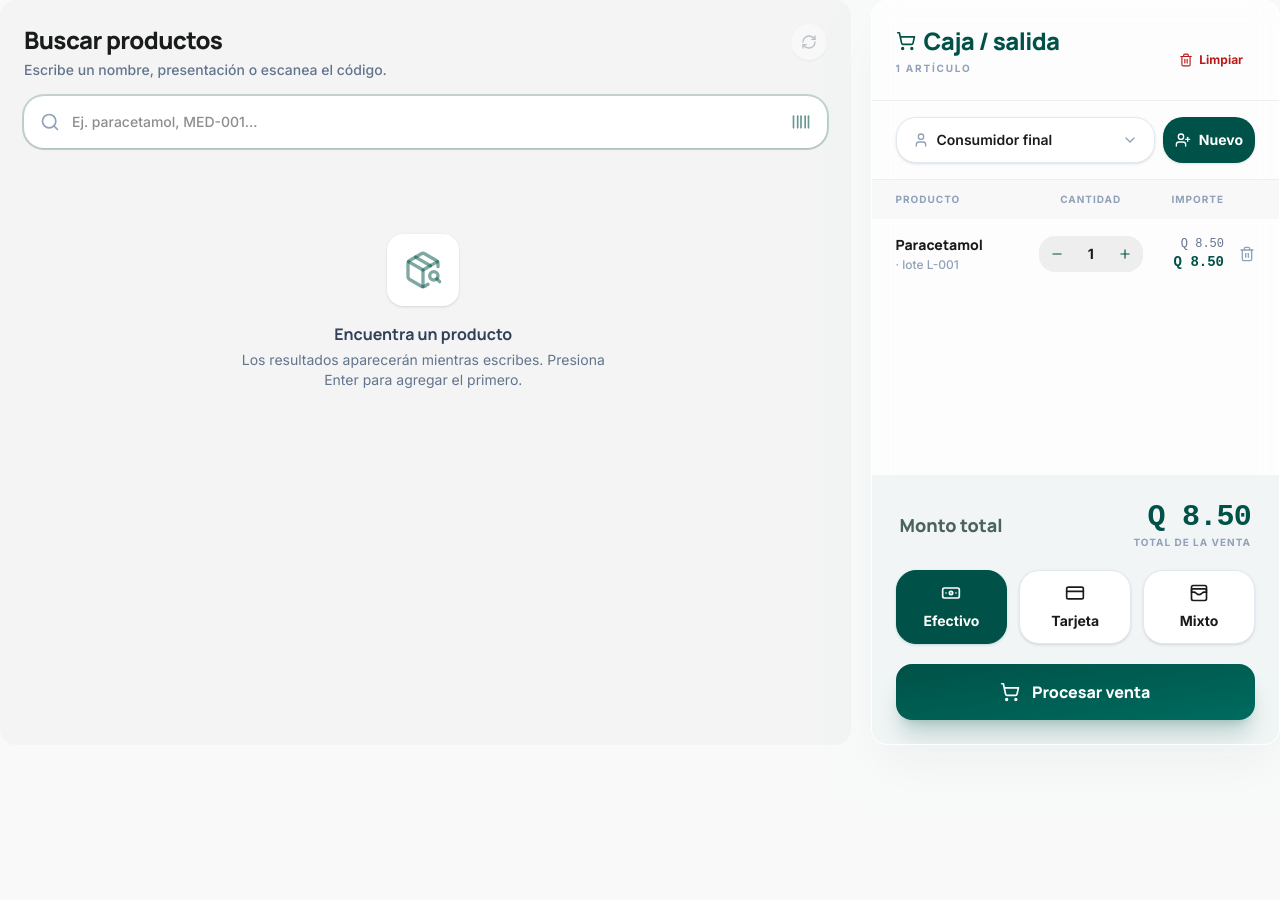
Test: PuntoVenta › deshabilita el boton mientras envia el comando al POS
Click the button "Tarjeta" at (1075, 607), box top-left (1019, 570), bottom-right (1131, 644)
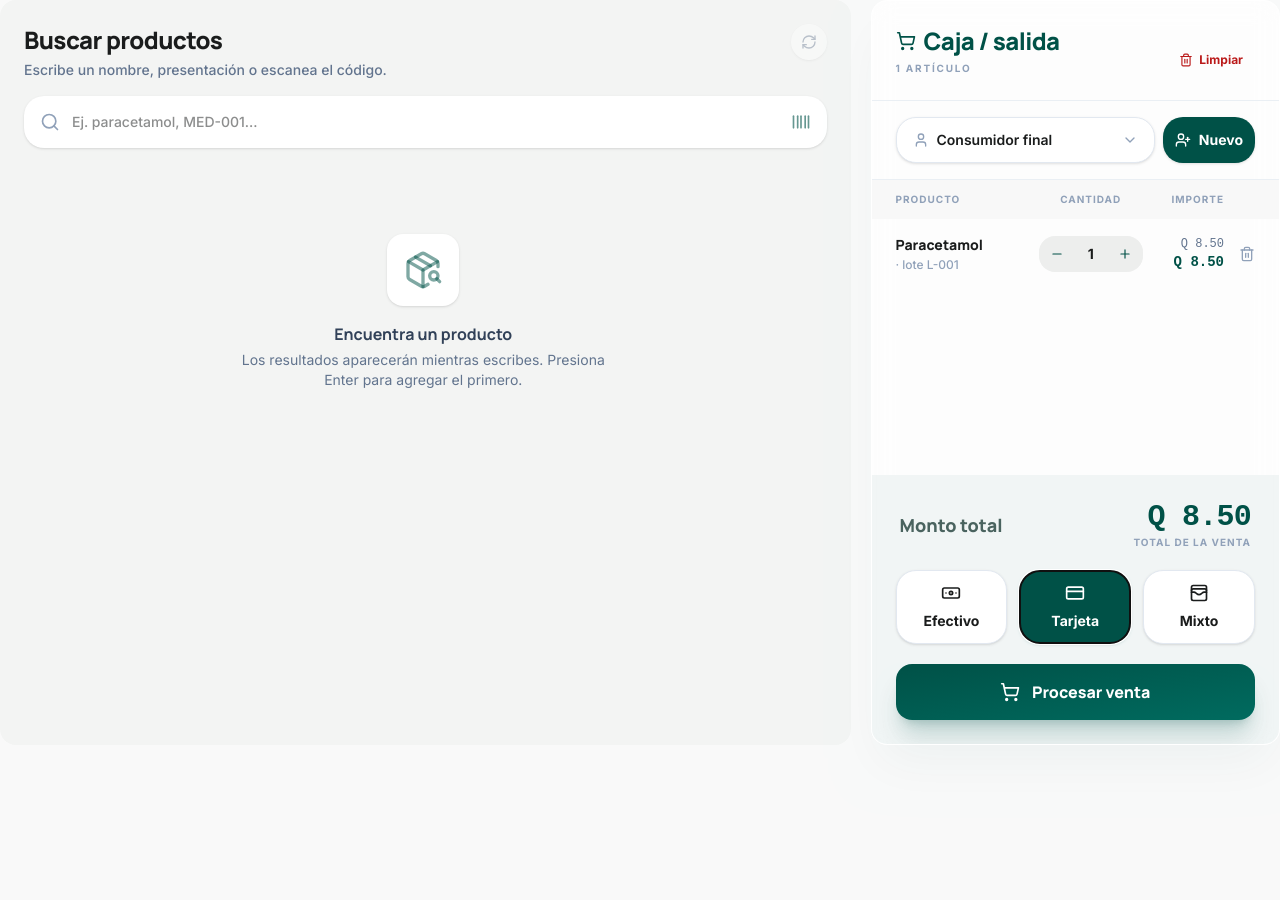
Click the button "Procesar venta" at (1075, 692), box top-left (896, 664), bottom-right (1255, 720)
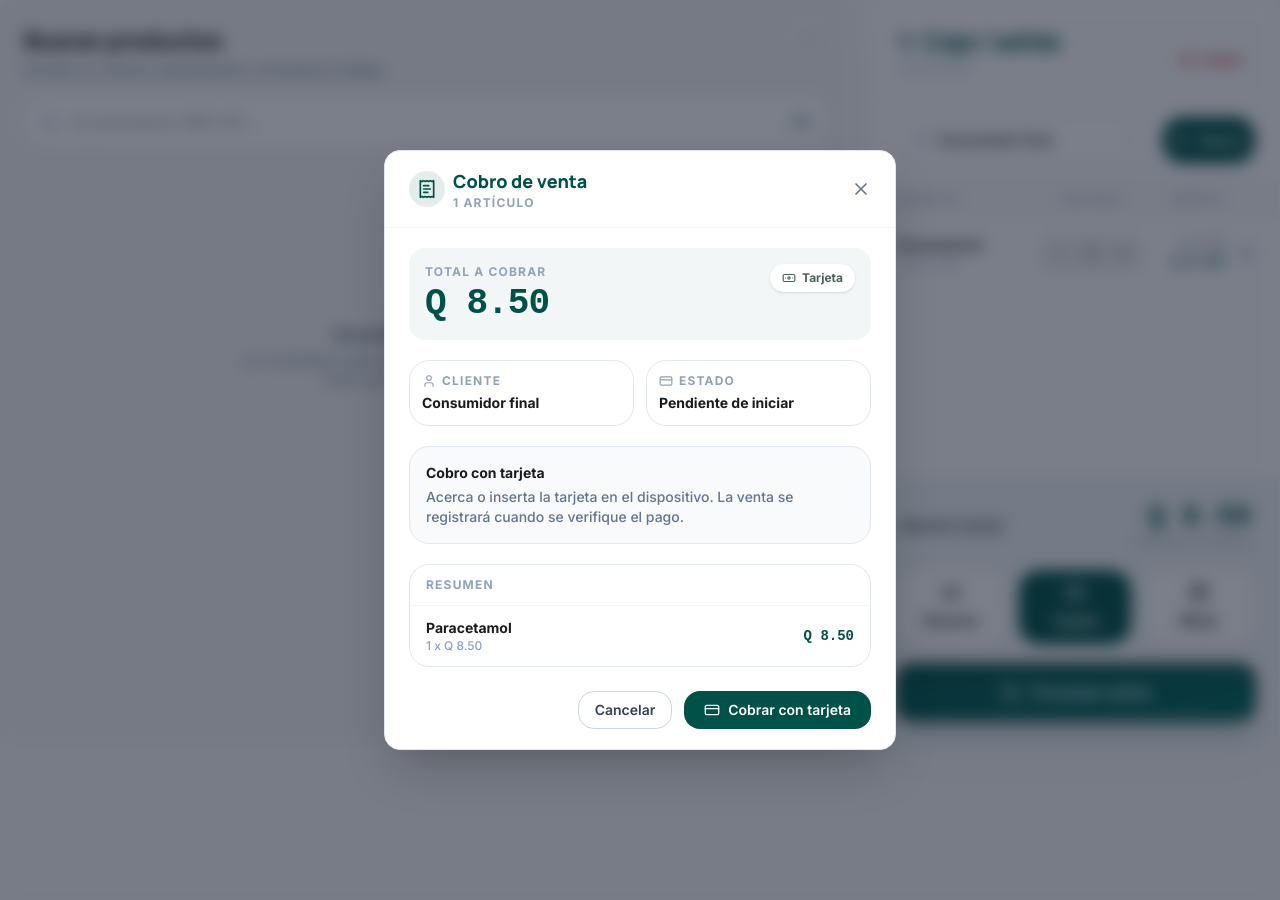
Click the button "Cobrar con tarjeta" at (778, 710), box top-left (684, 691), bottom-right (871, 729)
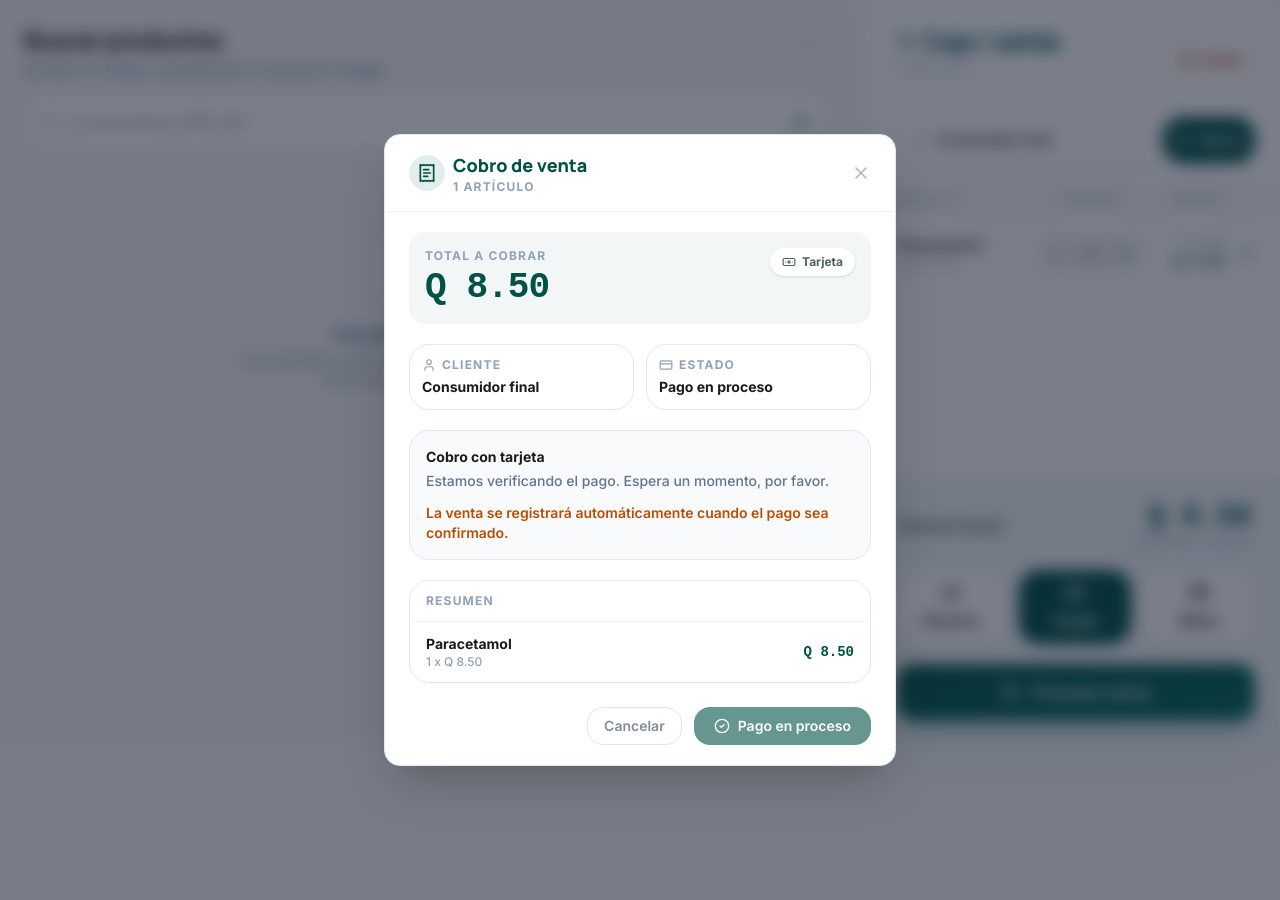
Result: the button named "Cobrar con tarjeta" is disabled at top-left (694, 707), bottom-right (871, 745)
